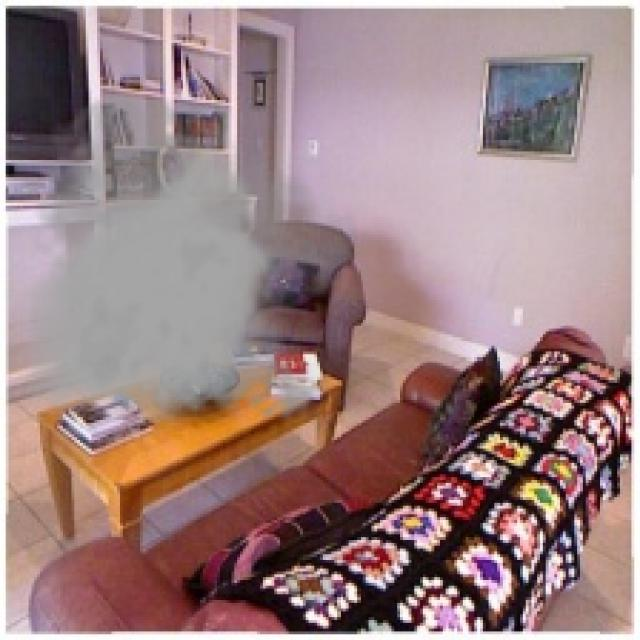smoke: (6, 89, 357, 432)
